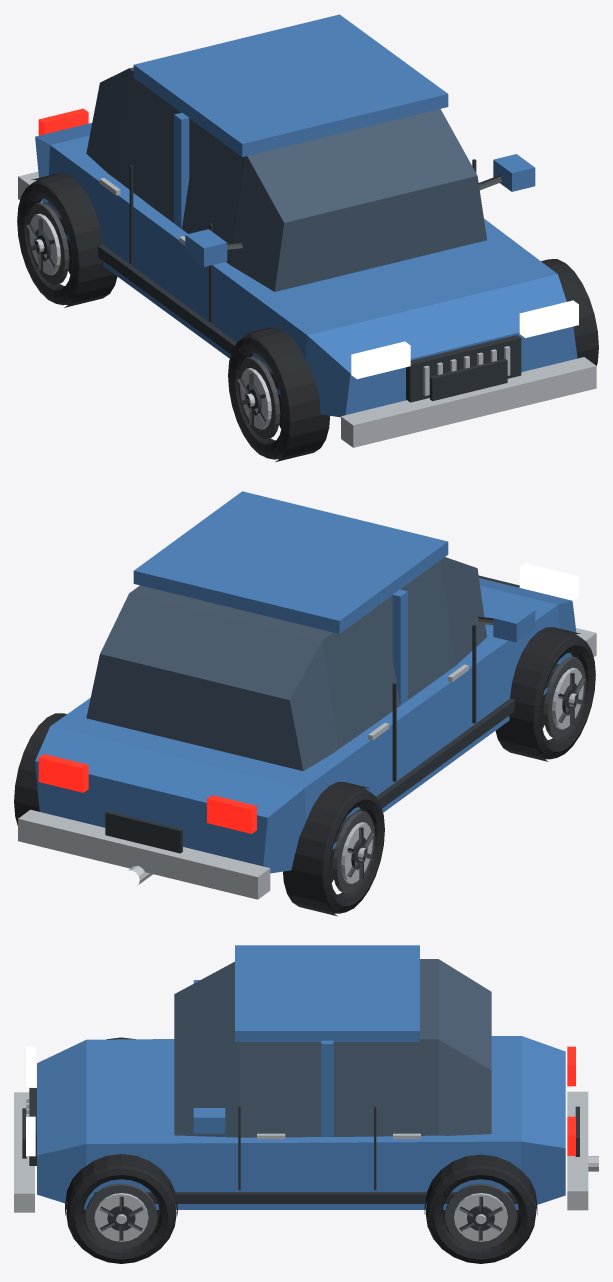
Rendered from car-sedan.glb.
3 views of the same model, one above another, from view 1: azimuth 30°, elevation 25°; view 2: azimuth 150°, elevation 25°; view 3: azimuth 270°, elevation 25° (orthographic). The views are drawn at different scales.
Visible parts, largest first — view 1: body-detail, wheel-front-left, wheel-back-left, wheel-front-right; view 2: body-detail, wheel-back-left, wheel-front-left, wheel-back-right; view 3: body-detail, wheel-front-right, wheel-back-right.
Part boxes in pixels (box(x1,y1,x2,y2)): body-detail: box(18, 14, 596, 447); wheel-front-left: box(228, 327, 329, 462); wheel-back-left: box(17, 173, 117, 307); wheel-front-right: box(541, 259, 598, 365); body-detail: box(18, 491, 596, 899); wheel-back-left: box(283, 782, 384, 916); wheel-front-left: box(495, 627, 595, 761); wheel-back-right: box(14, 713, 66, 825); body-detail: box(14, 945, 598, 1212); wheel-front-right: box(65, 1154, 177, 1263); wheel-back-right: box(424, 1154, 537, 1263).
Bounding box in the file's own units: 1.85 × 1.35 × 3.32.
